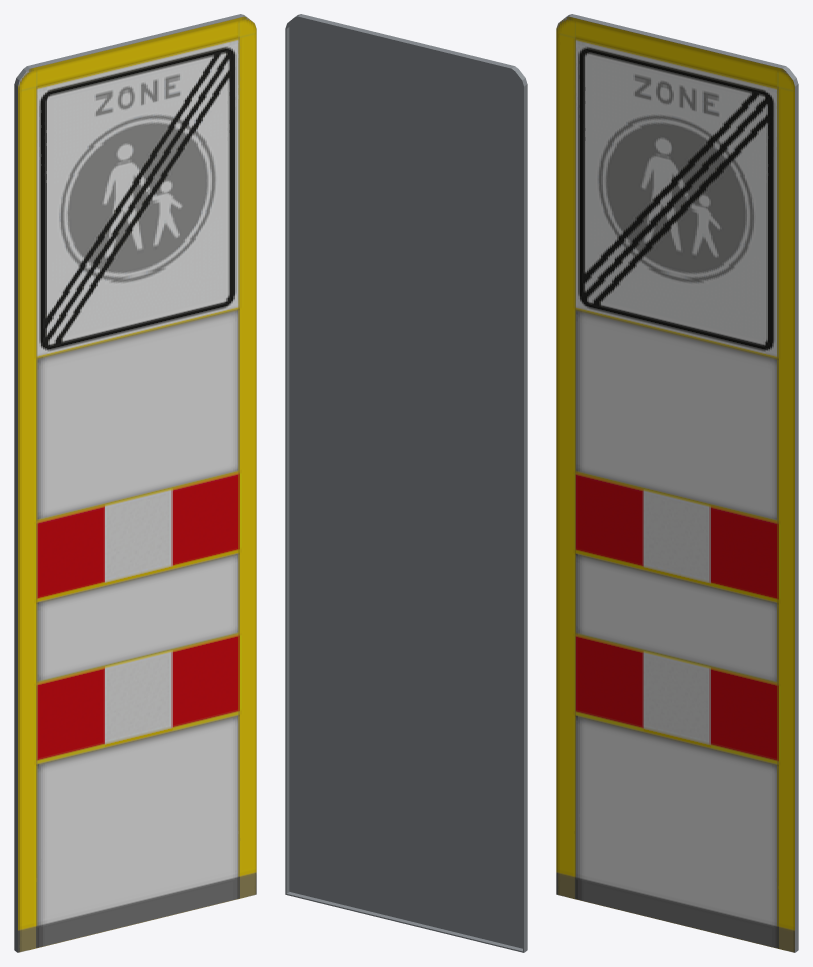
3 renders of one model, left to right at view 1: azimuth 30°, elevation 25°; view 2: azimuth 150°, elevation 25°; view 3: azimuth 330°, elevation 25°, orthographic.
Visible parts, largest first — view 1: cat_ba79b0afc3cedc83; view 2: cat_ba79b0afc3cedc83; view 3: cat_ba79b0afc3cedc83.
Part boxes in pixels (x1,y1,x2,y2): cat_ba79b0afc3cedc83: (14,14,256,952); cat_ba79b0afc3cedc83: (285,14,527,952); cat_ba79b0afc3cedc83: (556,14,798,952).
Size of the model in its own units: 0.6 by 0.015 by 2.12.
2 materials, 1 textured.
